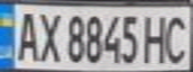4: (103, 11, 124, 64)
5: (118, 11, 145, 64)
8: (81, 10, 106, 64), (63, 10, 87, 64)
A: (9, 8, 42, 62)
C: (163, 10, 193, 64)
H: (139, 11, 172, 64)
X: (33, 8, 63, 63)
